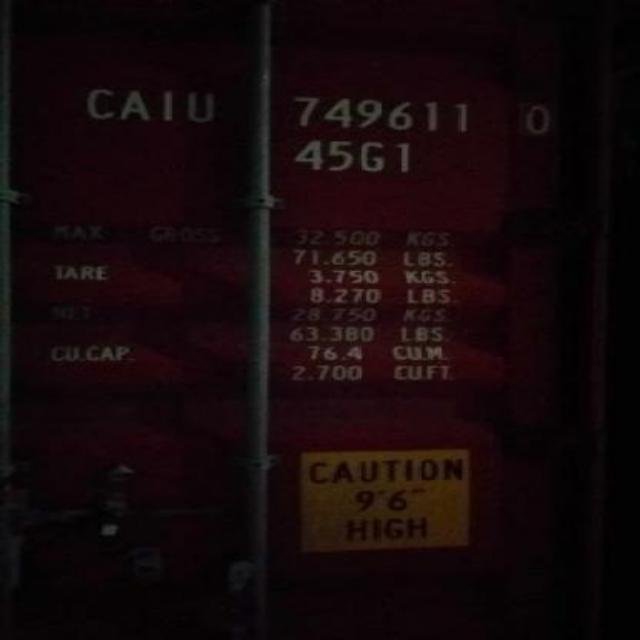0: (516, 103, 556, 135)
1: (448, 94, 476, 136), (416, 95, 446, 131)
4: (321, 95, 354, 128)
6: (386, 96, 418, 130)
7: (288, 95, 320, 127)
9: (354, 94, 386, 130)
A: (118, 86, 156, 122)
C: (82, 88, 120, 120)
I: (154, 85, 184, 121)
U: (186, 86, 218, 124)
